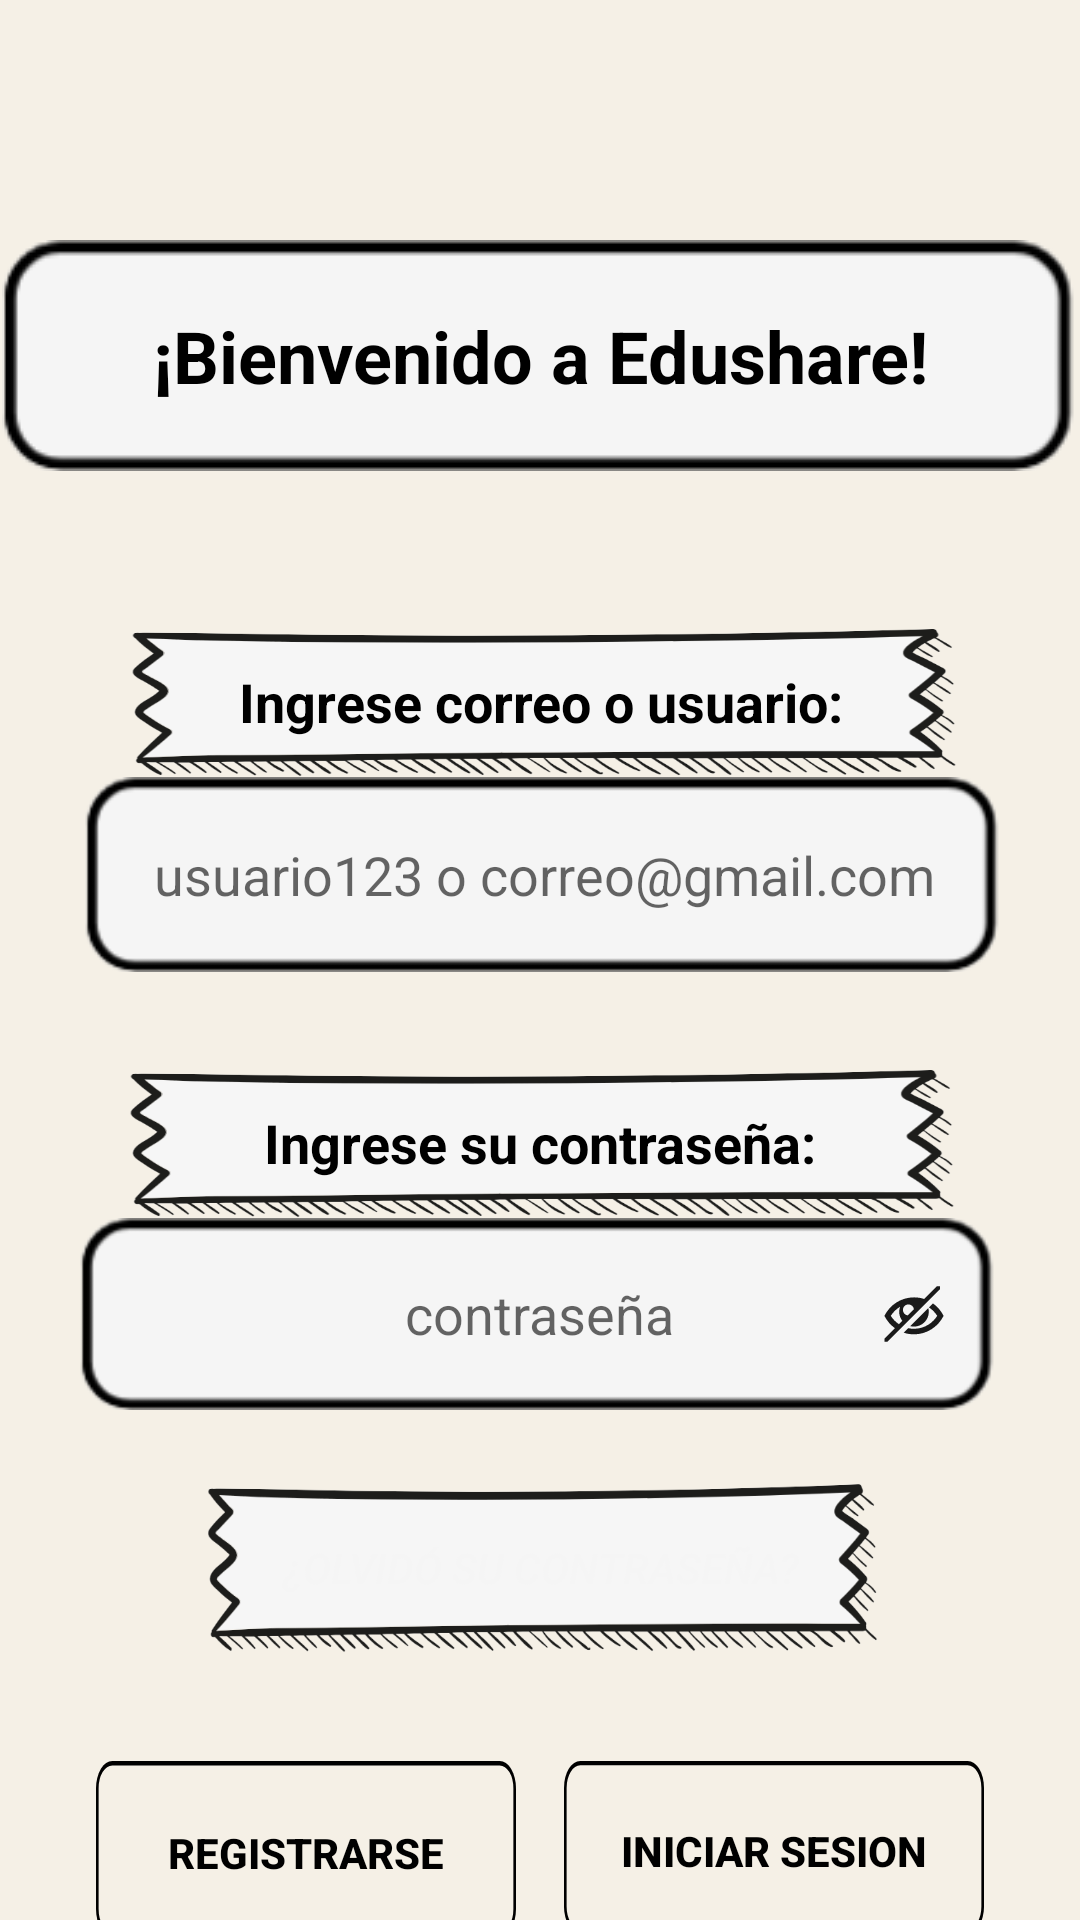

Icons on this 1080px x 1920px Android screen, each with the point to tap as [x,y]:
eye closed: [914,1314]
